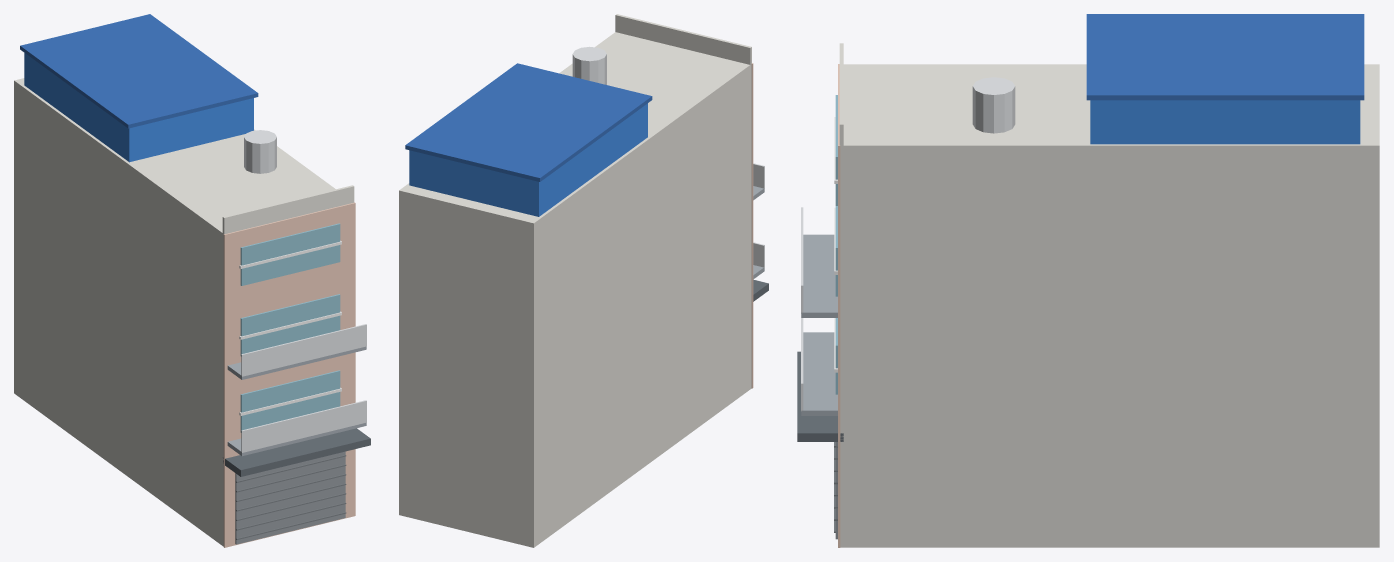
Rendered from sn_townhouse.glb.
The picture shows the model from 3 angles, left to right: view 1: azimuth 30°, elevation 25°; view 2: azimuth 150°, elevation 25°; view 3: azimuth 270°, elevation 25°; orthographic projection. The views are drawn at different scales.
Visible parts, largest first — view 1: sn_townhouse; view 2: sn_townhouse; view 3: sn_townhouse.
Boxes of the visible parts, x1,y1,x2,y2 form: sn_townhouse: (14, 14, 370, 547); sn_townhouse: (399, 14, 768, 547); sn_townhouse: (797, 14, 1379, 547).
Bounding box in the file's own units: 504 × 1294 × 1510.
